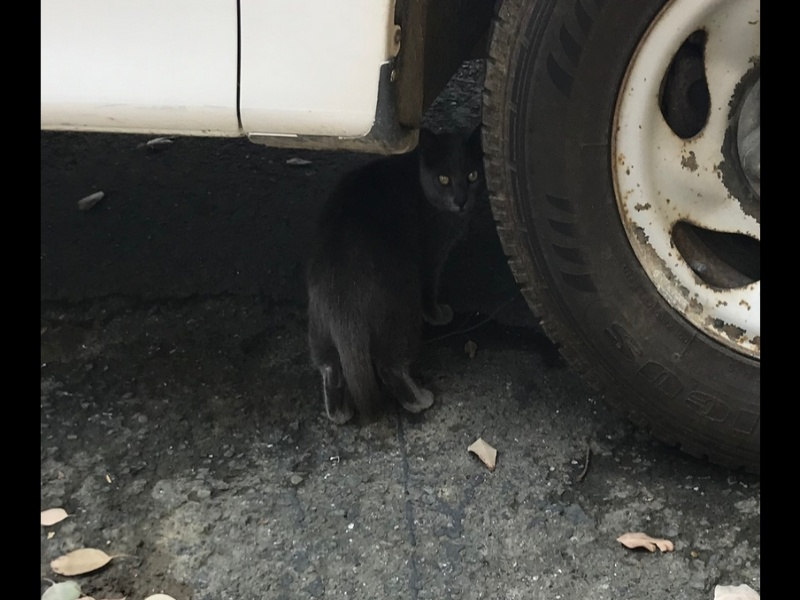cat: (298, 118, 489, 431)
